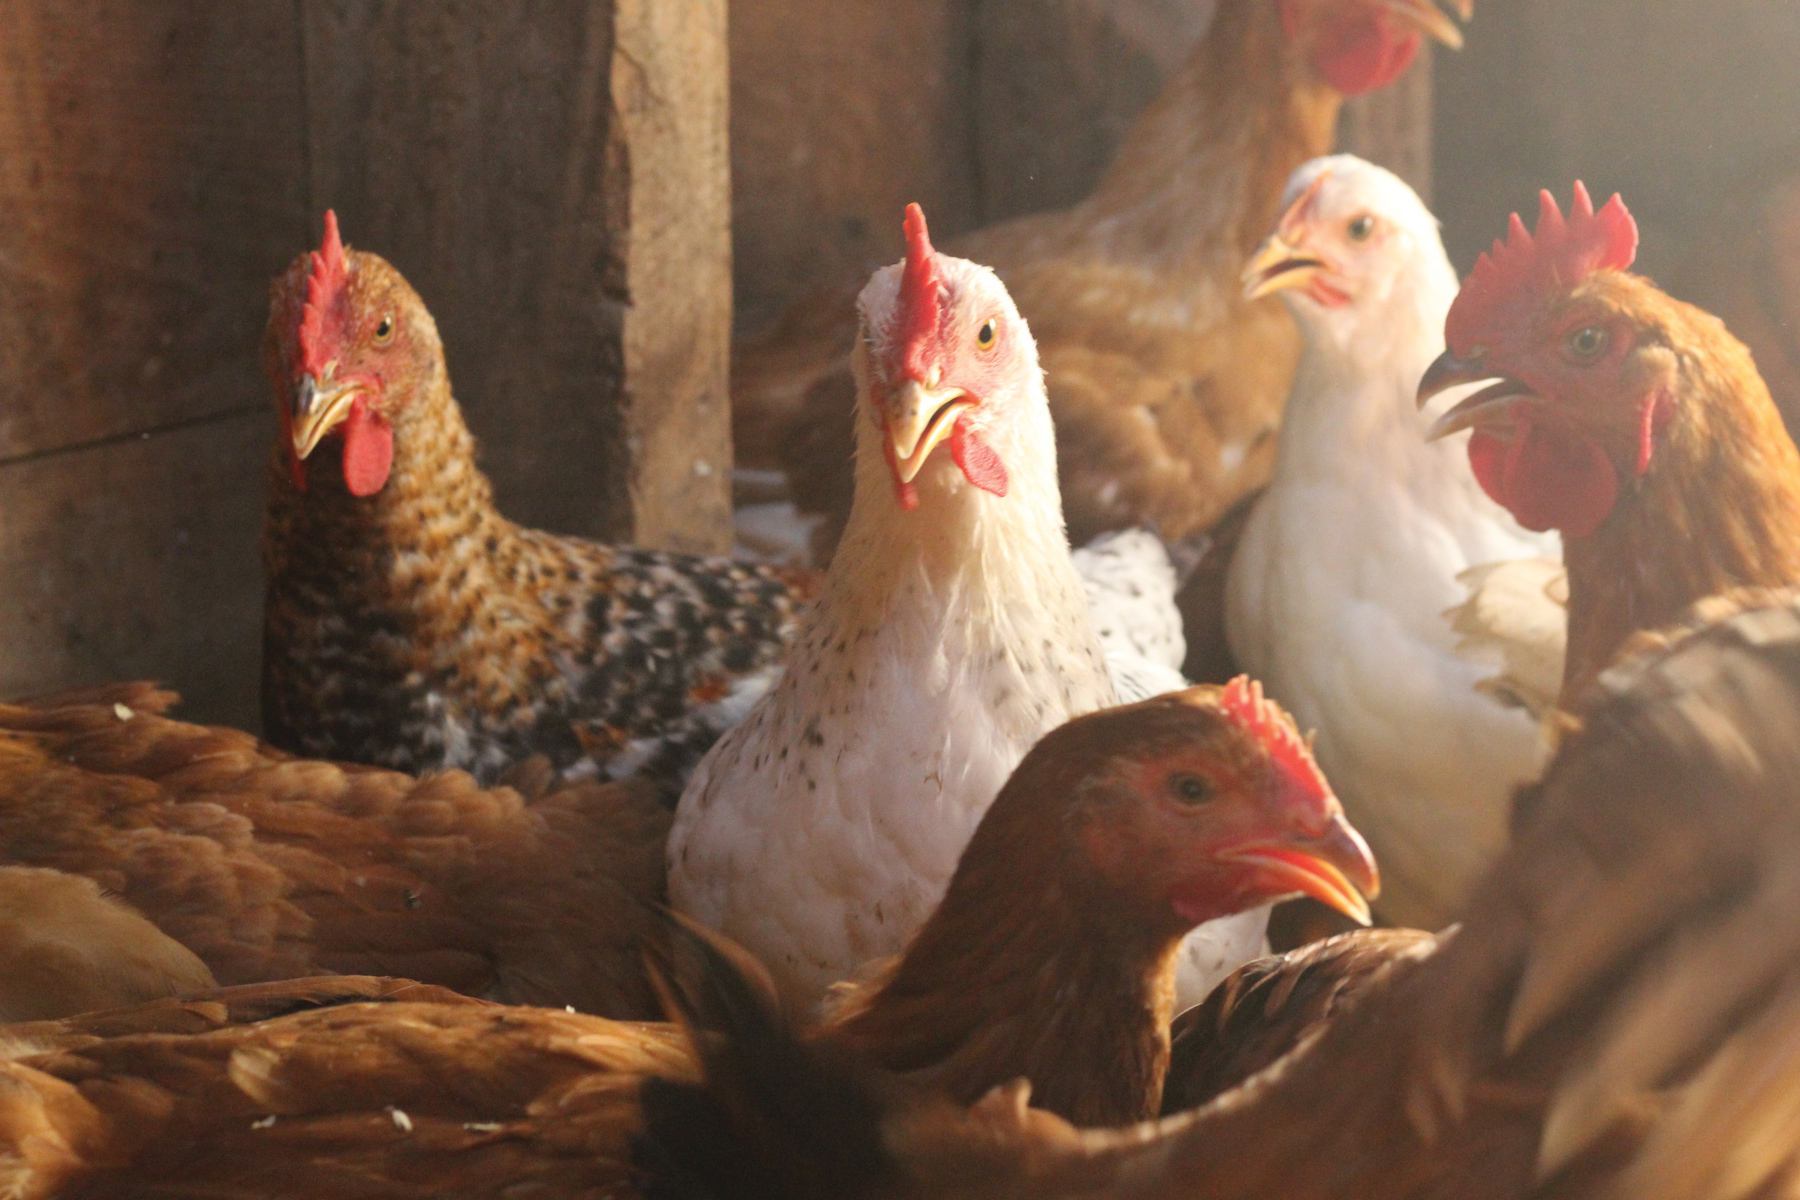chicken: (647, 241, 1197, 1062), (804, 686, 1417, 1092), (214, 213, 637, 739), (1412, 178, 1783, 646)
